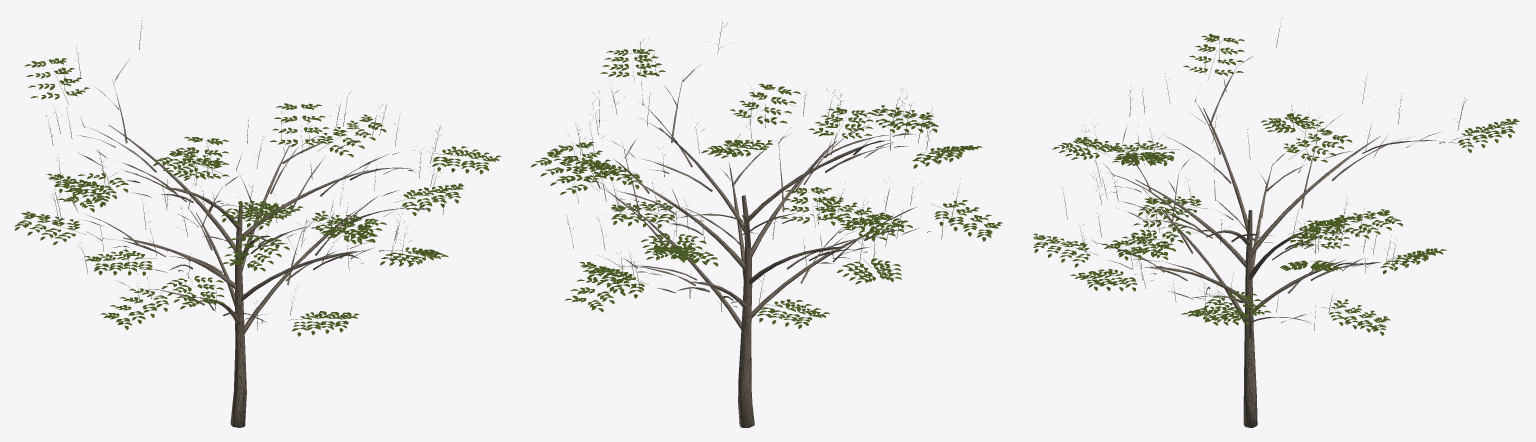
Rendered from koelreuteria-5.glb.
3 views of the same model, side by side, from view 1: azimuth 30°, elevation 25°; view 2: azimuth 150°, elevation 25°; view 3: azimuth 270°, elevation 25° (orthographic). The views are drawn at different scales.
Visible parts, largest first — view 1: leaf, bark, stem, leaf-edge; view 2: leaf, bark, stem, leaf-edge; view 3: leaf, bark, stem, leaf-edge.
Boxes of the visible parts, bbox=[...] form: leaf: bbox=[14, 58, 501, 336]; bark: bbox=[69, 58, 430, 427]; stem: bbox=[45, 17, 447, 330]; leaf-edge: bbox=[24, 62, 497, 330]; leaf: bbox=[530, 49, 1002, 328]; bark: bbox=[592, 65, 930, 427]; stem: bbox=[566, 21, 960, 311]; leaf-edge: bbox=[542, 51, 1000, 323]; leaf: bbox=[1033, 33, 1519, 335]; bark: bbox=[1090, 56, 1456, 427]; stem: bbox=[1062, 18, 1475, 330]; leaf-edge: bbox=[1036, 38, 1512, 329].
Size of what is drawn, in the model's own units: 4.16 by 3.35 by 4.4.
5 materials, 4 textured.
